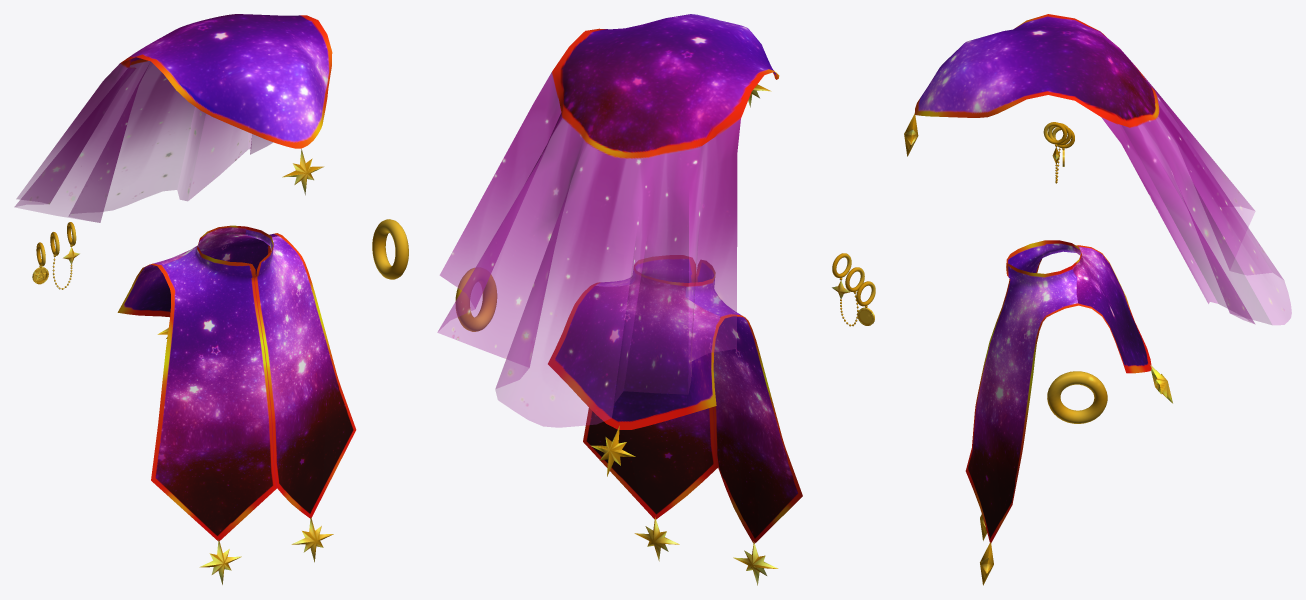
Rendered from v1-1-ware_red2.glb.
3 views of the same model, side by side, from view 1: azimuth 30°, elevation 25°; view 2: azimuth 150°, elevation 25°; view 3: azimuth 270°, elevation 25° (orthographic). The views are drawn at different scales.
Parts seen in each view (by area): view 1: U_Char_0; view 2: U_Char_0; view 3: U_Char_0.
Part boxes in pixels (x1,y1,x2,y2): U_Char_0: (15,14,408,584); U_Char_0: (437,14,875,585); U_Char_0: (904,14,1291,585).
Size of the model in its own units: 0.7983 by 1.07 by 0.7202.
Materials: 2 (2 with a texture image).
